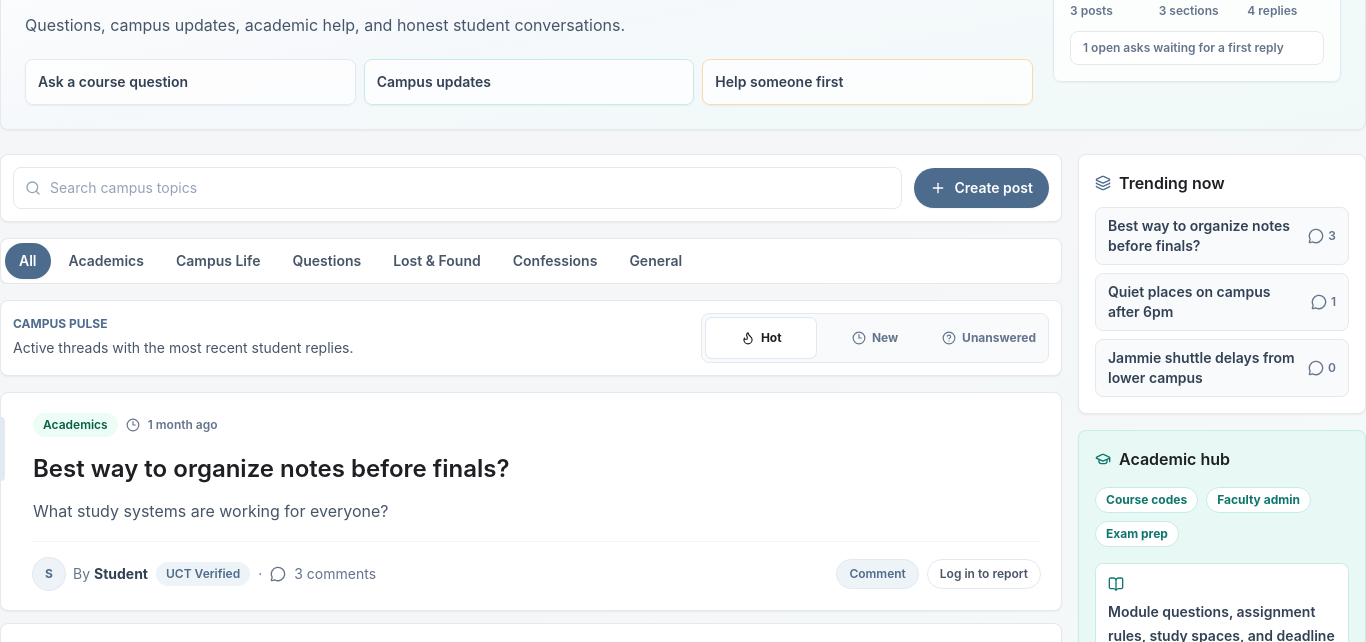
Scenario: HomePage › lets students switch between hot, new, and unanswered campus views
Check: the element named "Choose feed view" is shown, box 701,313 -> 1049,363
Check: the text "Active threads with the most recent student replies." is shown, box 13,339 -> 354,356
Click the button "Unanswered".
click(989, 338)  # box 934,318 -> 1044,358
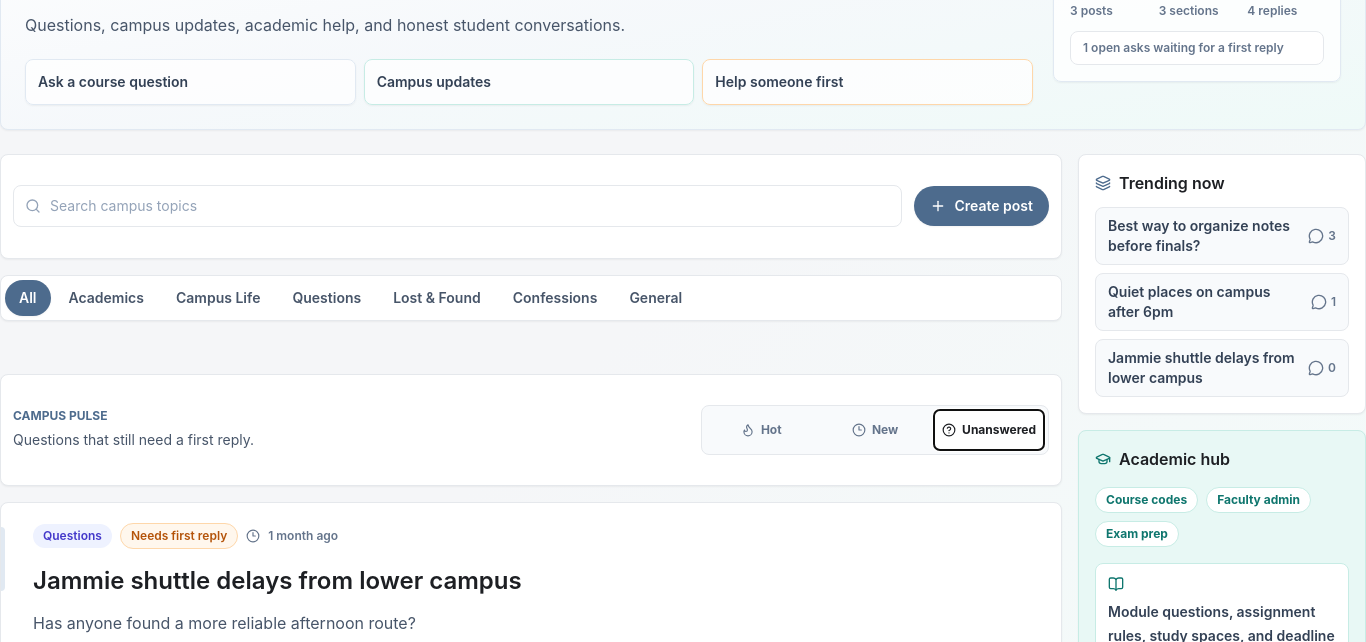
Check: the heading "Jammie shuttle delays from lower campus" is shown, box 33,566 -> 522,595
Check: the text "Questions that still need a first reply." is shown, box 13,431 -> 254,448
Click the button "New".
click(875, 430)  # box 820,410 -> 930,450
(page scrolled)
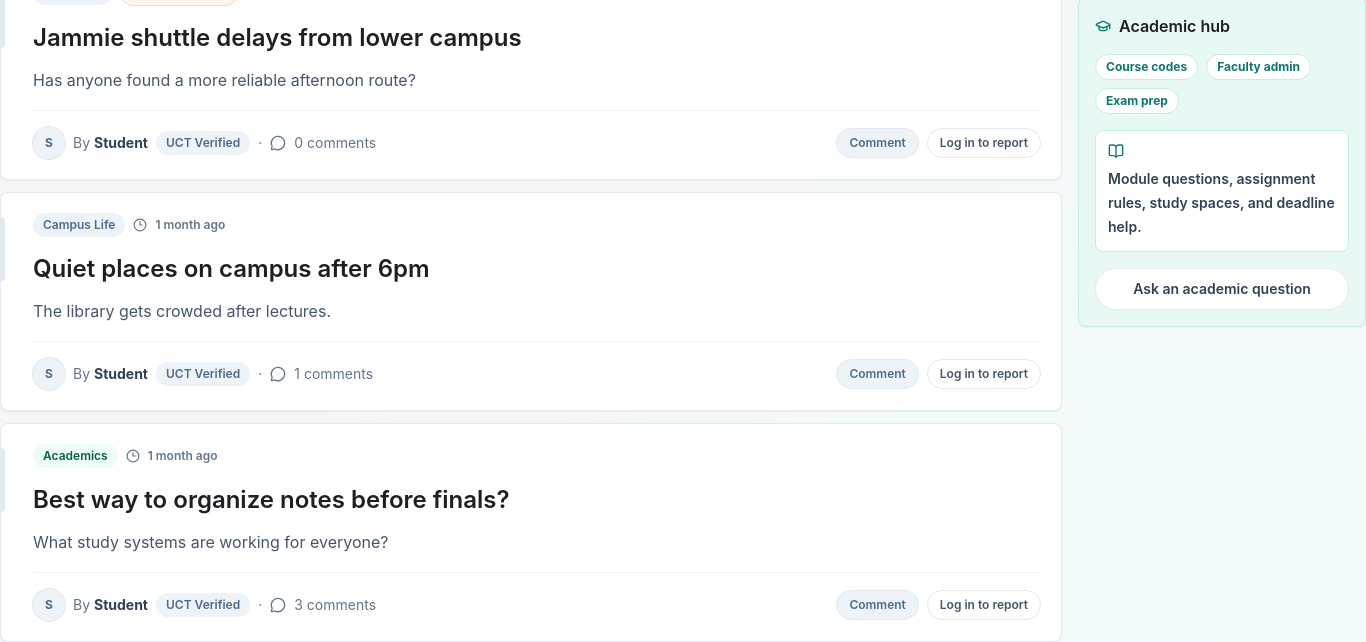
Check: the heading "Best way to organize notes before finals?" is shown, box 33,485 -> 510,514
